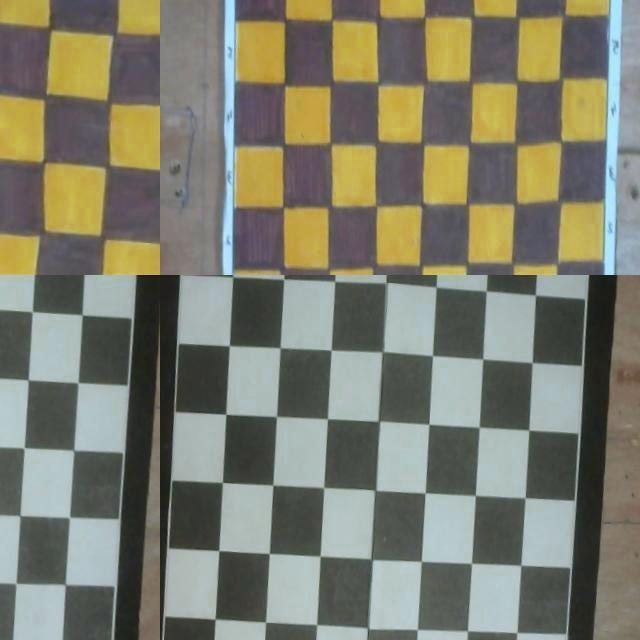chess-table-corners: (178, 275, 187, 281), (139, 275, 148, 280), (585, 275, 594, 280), (0, 0, 4, 7), (0, 633, 3, 640), (613, 0, 618, 4), (0, 275, 4, 280), (231, 0, 236, 3)
